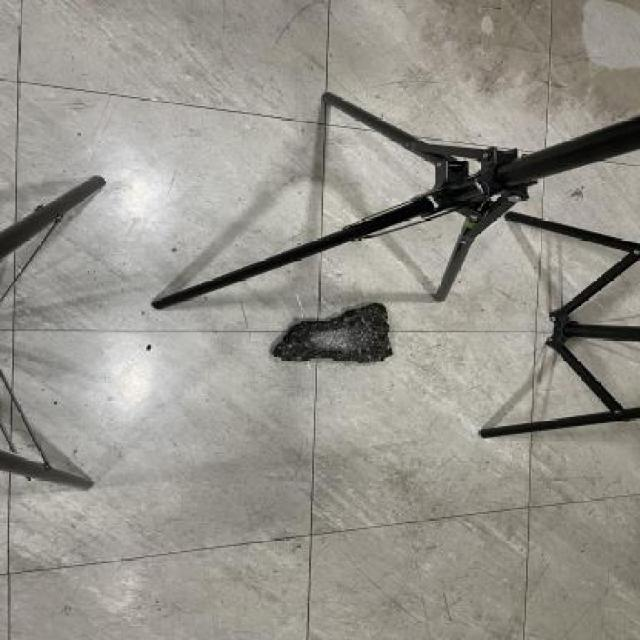Road Debris: (349, 298, 397, 364), (271, 317, 314, 368)
